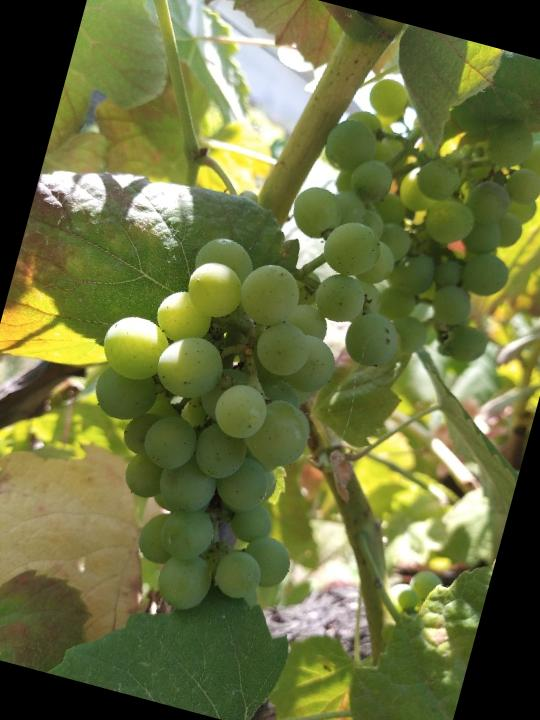grape: (36, 210, 417, 650)
